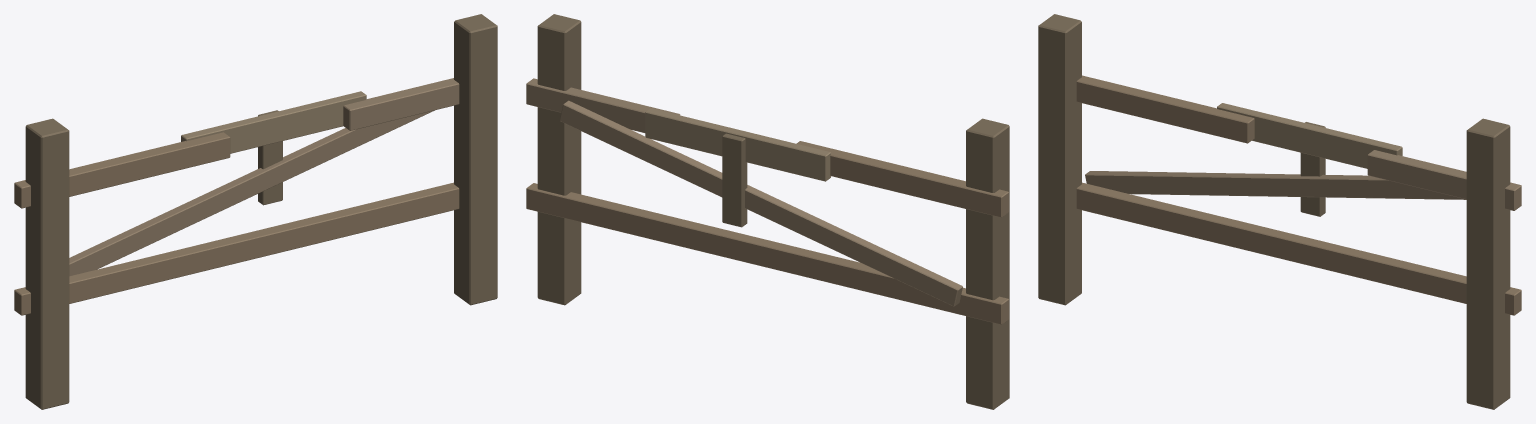
Rendered from env_fence_rail_repaired_c_v01_diagonal_stay.glb.
3 views of the same model, side by side, from view 1: azimuth 30°, elevation 25°; view 2: azimuth 150°, elevation 25°; view 3: azimuth 330°, elevation 25° (orthographic).
Parts seen in each view (by area): view 1: material_2, material_0, material_1, material_3; view 2: material_2, material_0, material_1, material_3; view 3: material_2, material_0, material_1, material_3.
Part boxes in pixels (<box>): material_2: <box>25,14,497,409</box>; material_0: <box>14,132,459,315</box>; material_1: <box>69,78,459,276</box>; material_3: <box>181,91,366,153</box>; material_2: <box>537,14,1009,409</box>; material_0: <box>526,141,1008,324</box>; material_1: <box>526,78,962,306</box>; material_3: <box>645,108,830,181</box>; material_2: <box>1038,14,1510,409</box>; material_0: <box>1076,75,1521,315</box>; material_1: <box>1085,150,1521,210</box>; material_3: <box>1217,103,1402,168</box>.
Bounding box in the file's own units: 2 × 1.1 × 0.19.
